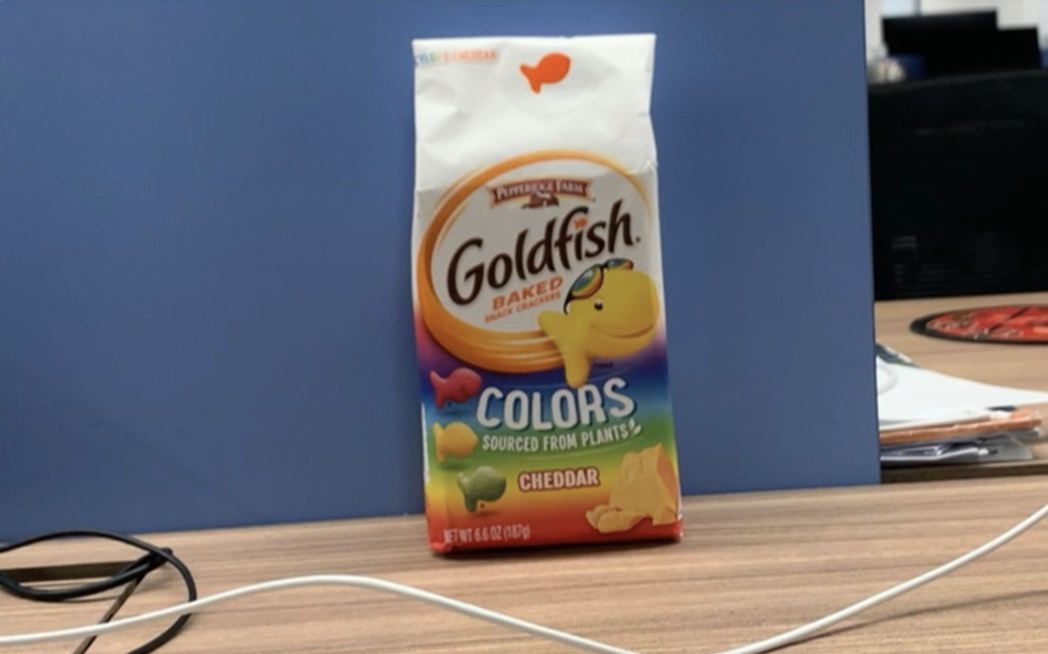crackers_150g: (428, 49, 668, 553)
